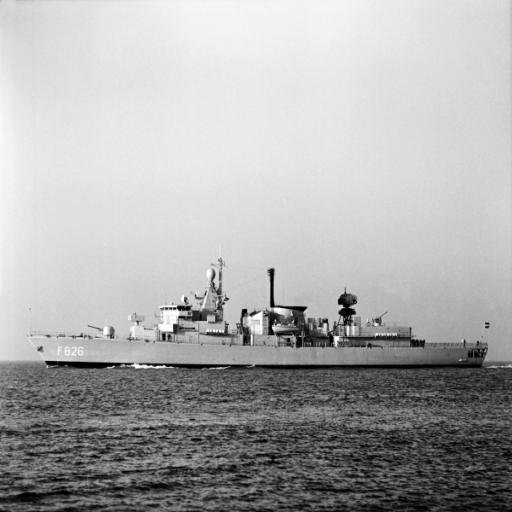Fragata: (26, 260, 491, 373)
